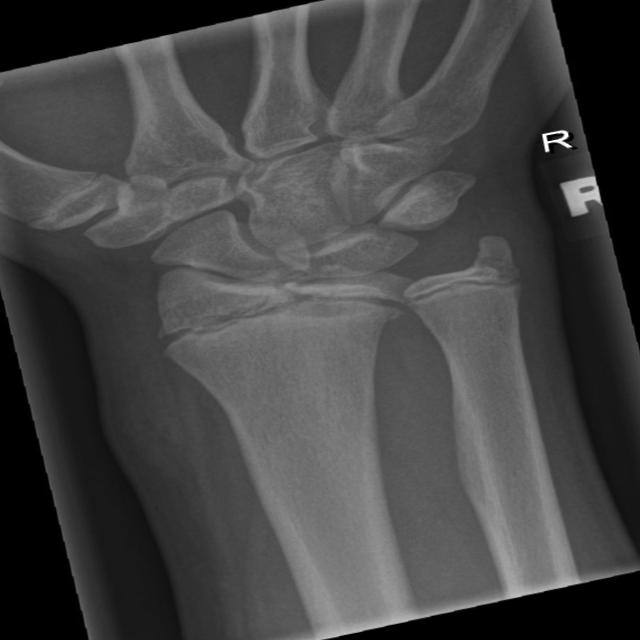fracture: (136, 264, 420, 372), (389, 252, 534, 318)
